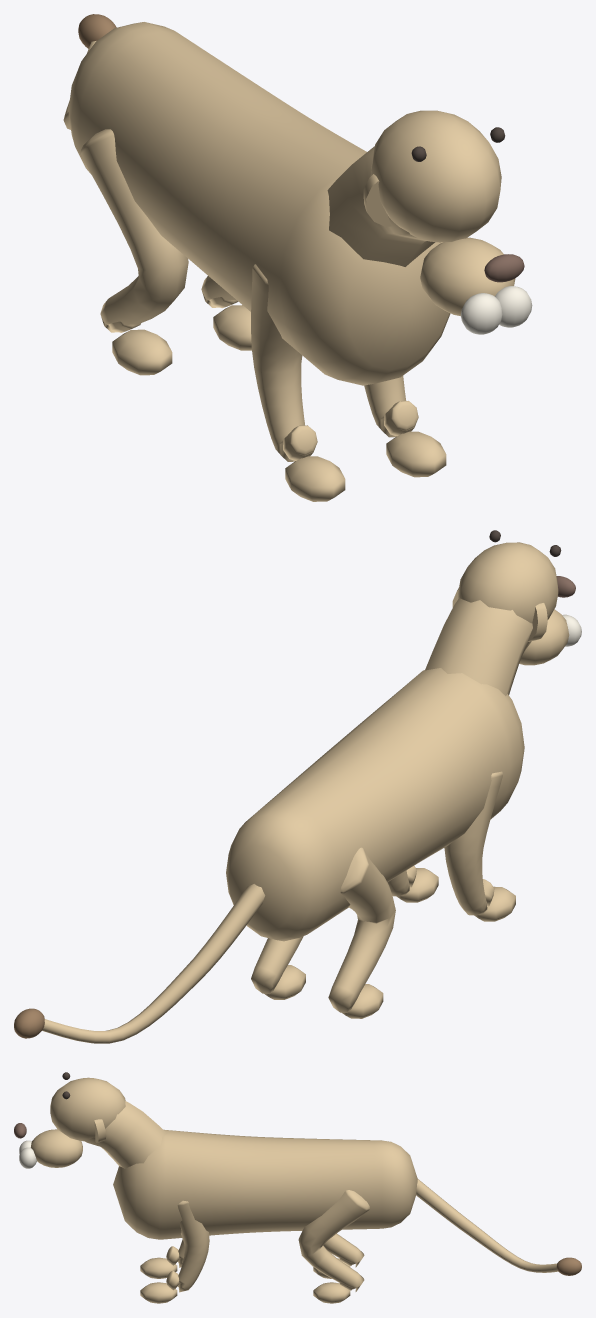
File: savanna-wildlife-lion-cub-c825e39f__6542.glb
3 views of the same model, one above another, from view 1: azimuth 30°, elevation 25°; view 2: azimuth 150°, elevation 25°; view 3: azimuth 270°, elevation 25° (orthographic). The views are drawn at different scales.
Parts seen in each view (by area): view 1: lion-cub; view 2: lion-cub; view 3: lion-cub.
Boxes of the visible parts, <box> form: lion-cub: <box>63,14,532,501</box>; lion-cub: <box>14,530,581,1043</box>; lion-cub: <box>14,1072,581,1303</box>.
Size of the model in its own units: 0.4215 by 0.698 by 1.72.
